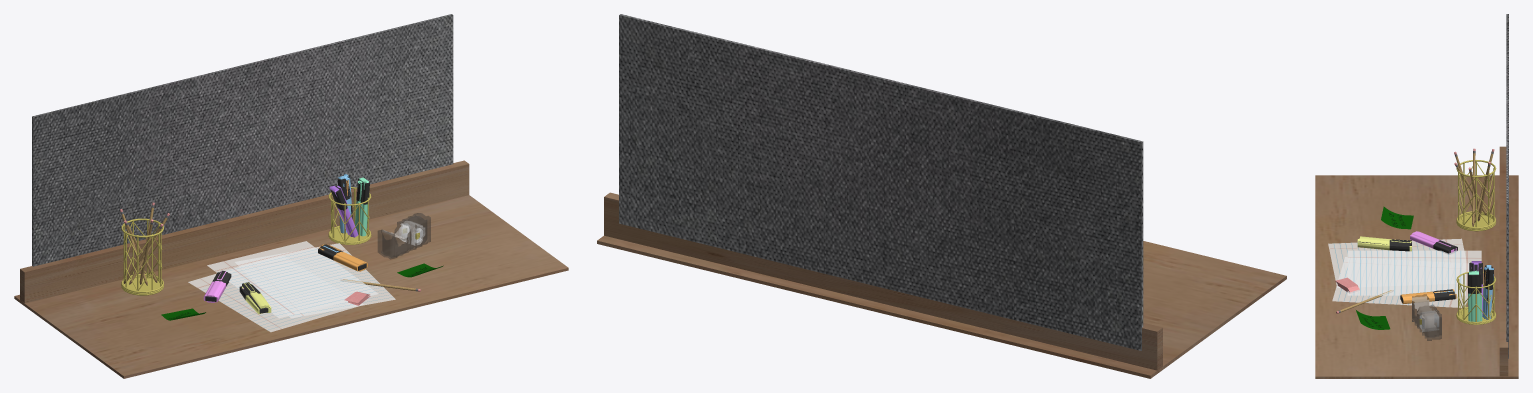
File: my_deskm.glb
The picture shows the model from 3 angles, left to right: view 1: azimuth 30°, elevation 25°; view 2: azimuth 150°, elevation 25°; view 3: azimuth 270°, elevation 25°; orthographic projection. The views are drawn at different scales.
Parts seen in each view (by area): view 1: object 93, desk_base_pencil_wood_0, desk_base1_pencil_wood_0, pPlane3_paper_0, pPlane2_paper_0, pTorus6_aiStandardSurface1_0 (×2), object 8; view 2: object 93, desk_base_pencil_wood_0, desk_base1_pencil_wood_0; view 3: desk_base_pencil_wood_0, object 93, pPlane3_paper_0, pPlane2_paper_0, pTorus6_aiStandardSurface1_0 (×2), desk_base1_pencil_wood_0, object 8, pPlane5_post_it_1_tex_0, object 67, pPlane6_post_it_2_0, loftedSurface14_highlighter_green_0, loftedSurface15_highlighter_orange_0 (+8 smaller).
Boxes of the visible parts, left/top/right/bottom form: object 93: left=32, top=14, right=453, bottom=318; desk_base_pencil_wood_0: left=14, top=195, right=568, bottom=378; desk_base1_pencil_wood_0: left=20, top=160, right=469, bottom=303; pPlane3_paper_0: left=235, top=243, right=395, bottom=318; pPlane2_paper_0: left=188, top=267, right=362, bottom=332; pTorus6_aiStandardSurface1_0 (×2): left=121, top=187, right=371, bottom=295; object 8: left=378, top=213, right=430, bottom=259; object 93: left=619, top=14, right=1143, bottom=350; desk_base_pencil_wood_0: left=597, top=235, right=1286, bottom=378; desk_base1_pencil_wood_0: left=604, top=192, right=1162, bottom=370; desk_base_pencil_wood_0: left=1315, top=175, right=1518, bottom=378; object 93: left=1347, top=14, right=1508, bottom=358; pPlane3_paper_0: left=1332, top=257, right=1468, bottom=307; pPlane2_paper_0: left=1328, top=238, right=1465, bottom=287; pTorus6_aiStandardSurface1_0 (×2): left=1456, top=160, right=1496, bottom=324; desk_base1_pencil_wood_0: left=1499, top=146, right=1508, bottom=376; object 8: left=1412, top=294, right=1441, bottom=340; pPlane5_post_it_1_tex_0: left=1381, top=206, right=1413, bottom=229; object 67: left=1357, top=236, right=1411, bottom=251; pPlane6_post_it_2_0: left=1356, top=310, right=1390, bottom=329; loftedSurface14_highlighter_green_0: left=1468, top=293, right=1482, bottom=321; loftedSurface15_highlighter_orange_0: left=1401, top=291, right=1434, bottom=304.
Size of the model in its own units: 1.76 by 0.6904 by 0.7495.
21 materials, 6 textured.
